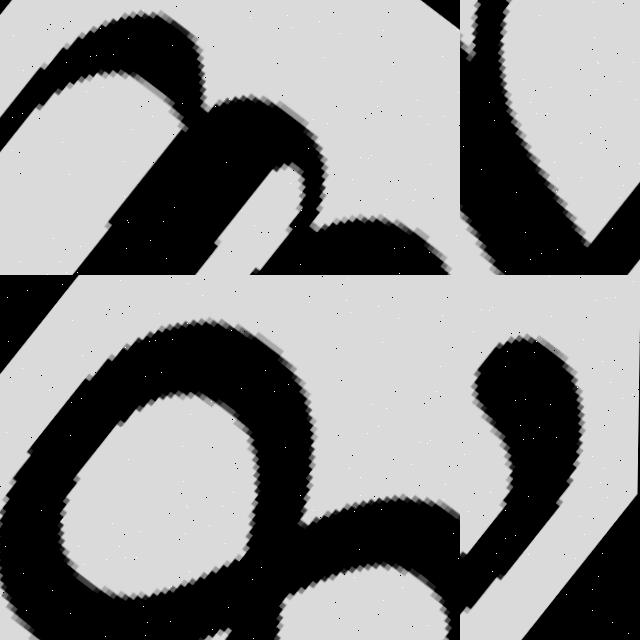8: (0, 275, 460, 640)
A: (460, 0, 640, 275)
G: (0, 0, 460, 275)
Z: (460, 275, 640, 640)
